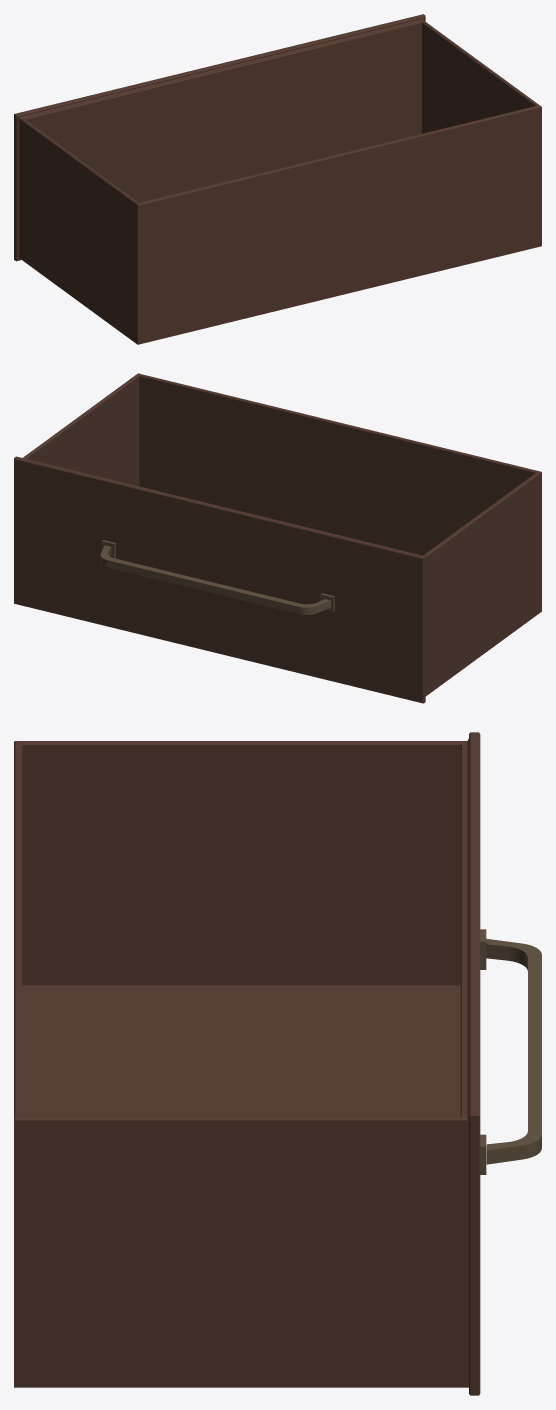
Rendered from SM_FileCabinetDrawerWide_001.fbx.
The picture shows the model from 3 angles, top to bottom: view 1: azimuth 30°, elevation 25°; view 2: azimuth 150°, elevation 25°; view 3: azimuth 270°, elevation 25°; orthographic projection. The views are drawn at different scales.
Parts seen in each view (by area): view 1: polySurface23; view 2: polySurface23; view 3: polySurface23.
Part boxes in pixels (x1,y1,x2,y2): polySurface23: [14, 14, 541, 344]; polySurface23: [14, 373, 541, 703]; polySurface23: [14, 732, 541, 1395].
Size of the model in its own units: 131 by 44.54 by 76.22.
